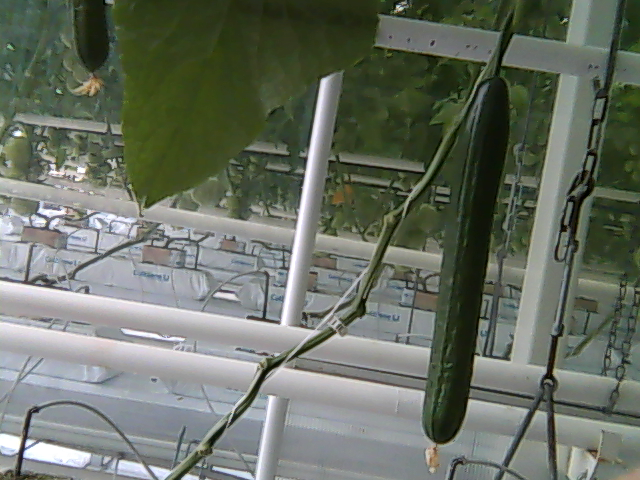concombre: (418, 70, 516, 476), (69, 1, 114, 95)
